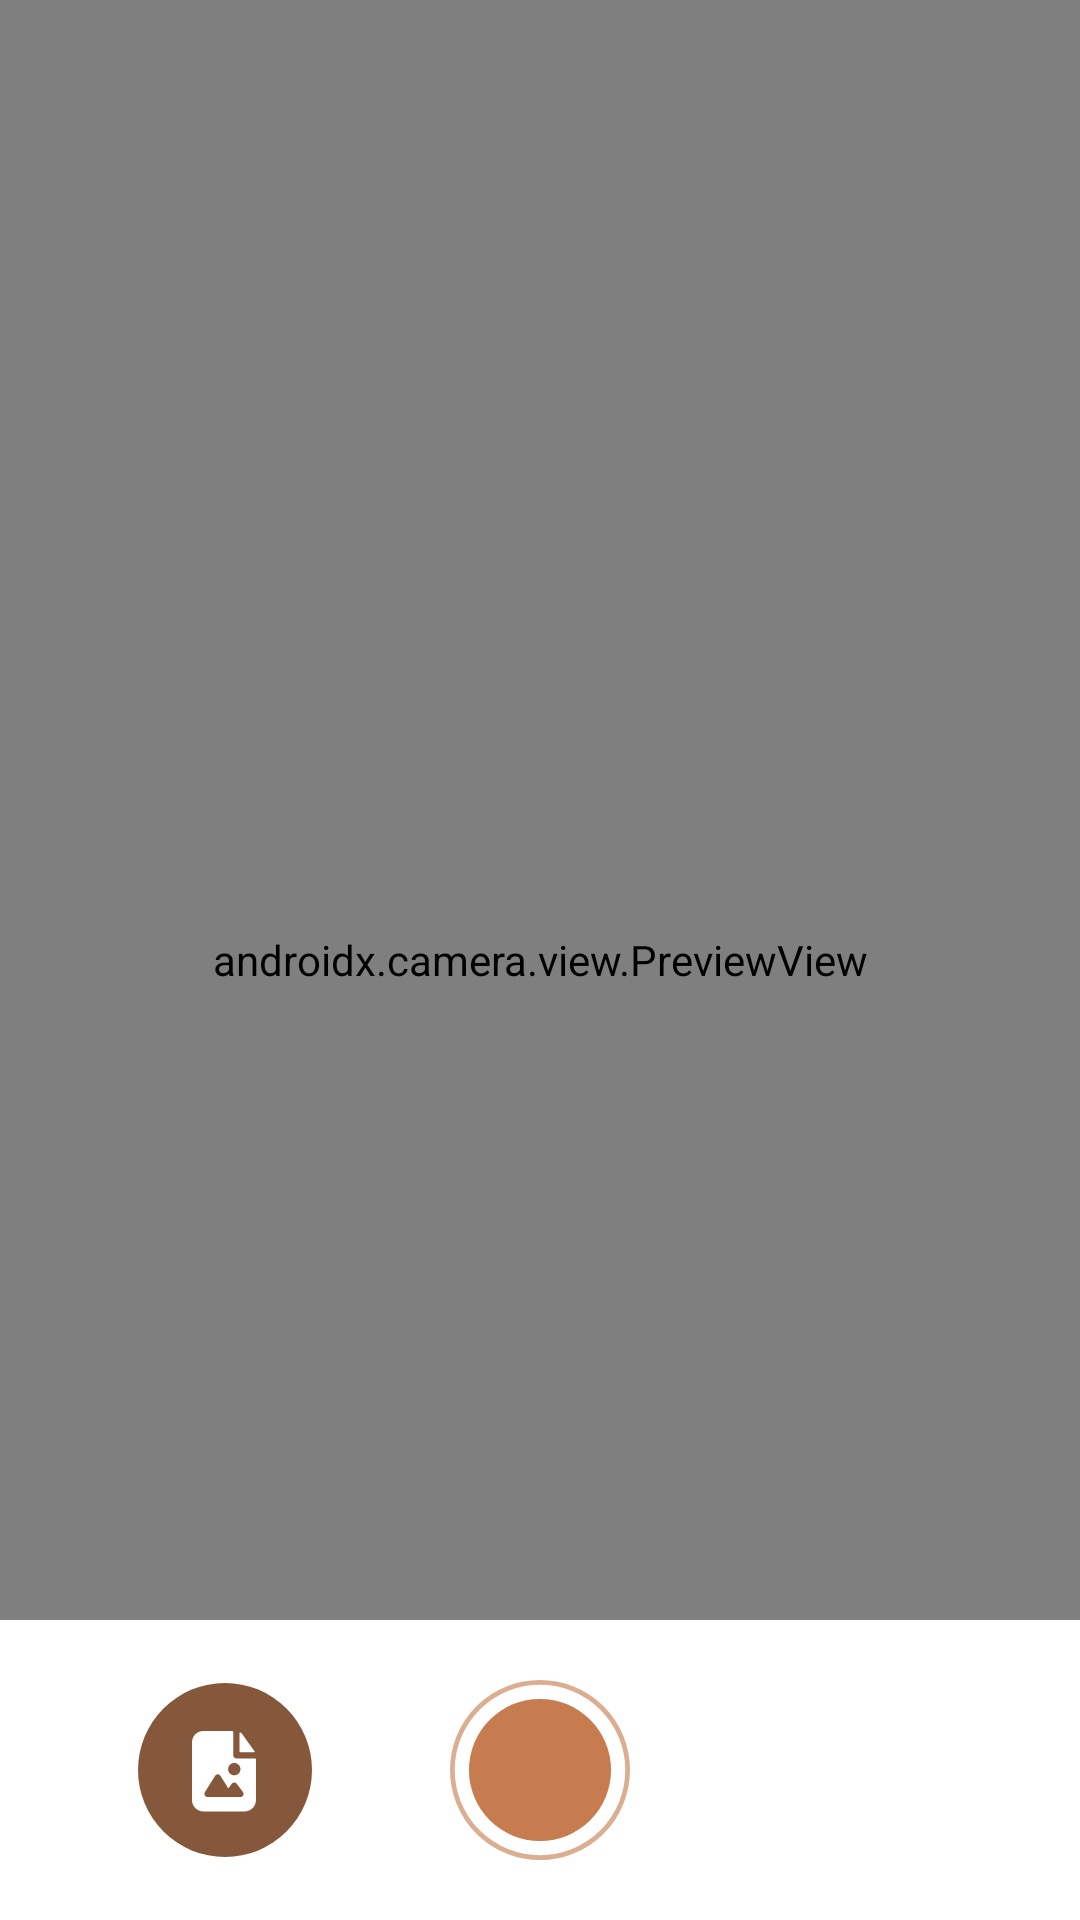

Icon click points for this 1080px×1920px phone screenshot, format (x,y):
Buka Galeri: (225,1770)
cam: (540,1770)
